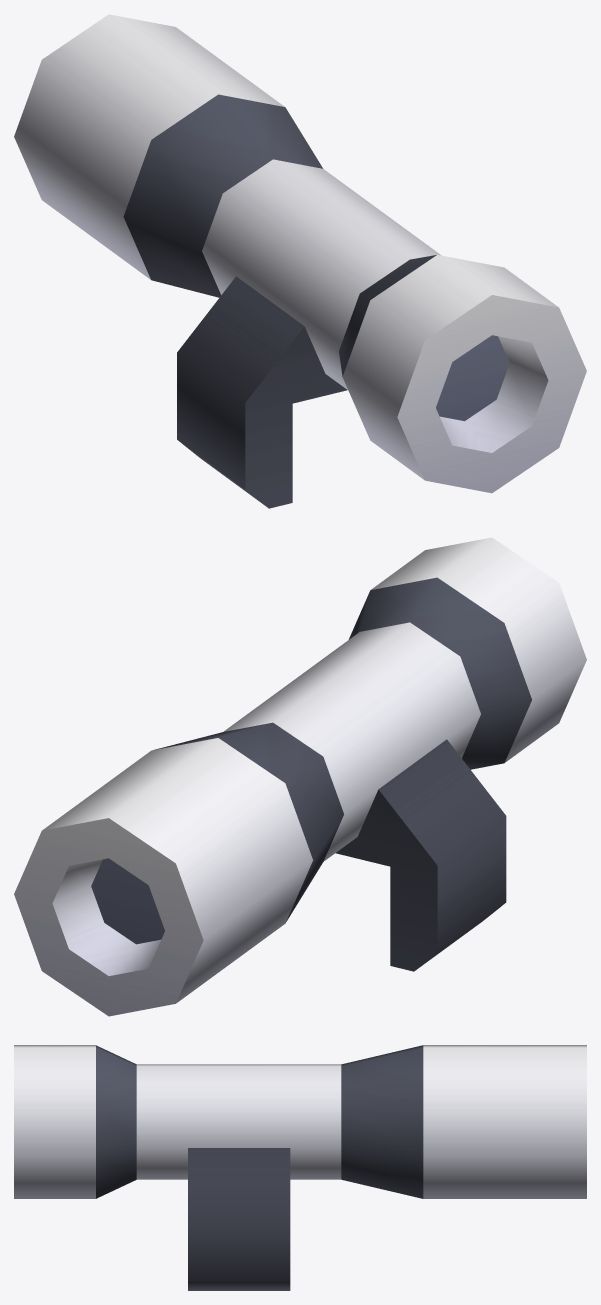
Rendered from scope-small.glb.
The picture shows the model from 3 angles, top to bottom: view 1: azimuth 30°, elevation 25°; view 2: azimuth 150°, elevation 25°; view 3: azimuth 270°, elevation 25°; orthographic projection. The views are drawn at different scales.
Parts seen in each view (by area): view 1: scope-small; view 2: scope-small; view 3: scope-small.
Boxes of the visible parts, left/top/right/bottom form: scope-small: left=14, top=14, right=586, bottom=508; scope-small: left=14, top=537, right=586, bottom=1016; scope-small: left=14, top=1045, right=586, bottom=1290.
Bounding box in the file's own units: 0.11 × 0.11 × 0.28.
1 material, 1 textured.
